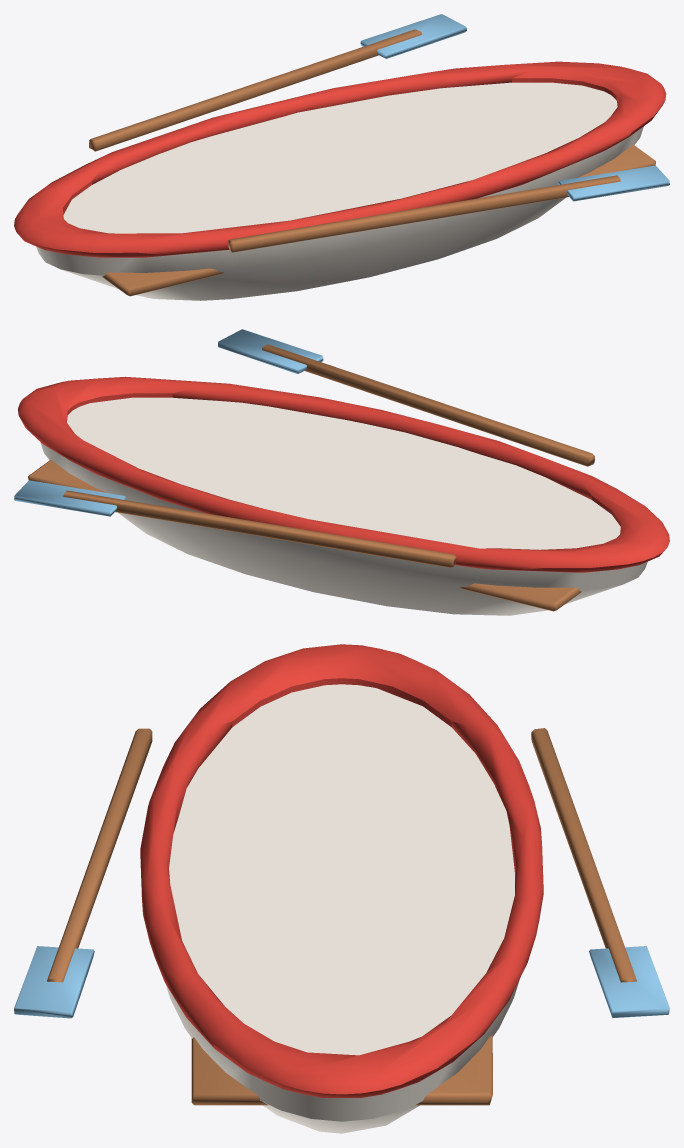
File: rowboat.glb
3 views of the same model, one above another, from view 1: azimuth 30°, elevation 25°; view 2: azimuth 150°, elevation 25°; view 3: azimuth 270°, elevation 25° (orthographic). The views are drawn at different scales.
Visible parts, largest first — view 1: rowboat; view 2: rowboat; view 3: rowboat.
Part boxes in pixels (bbox=[...]): rowboat: bbox=[14, 14, 669, 300]; rowboat: bbox=[14, 329, 669, 615]; rowboat: bbox=[14, 644, 669, 1133].
Bounding box in the file's own units: 3.48 × 0.5282 × 2.17.
Materials: 1 (1 with a texture image).
